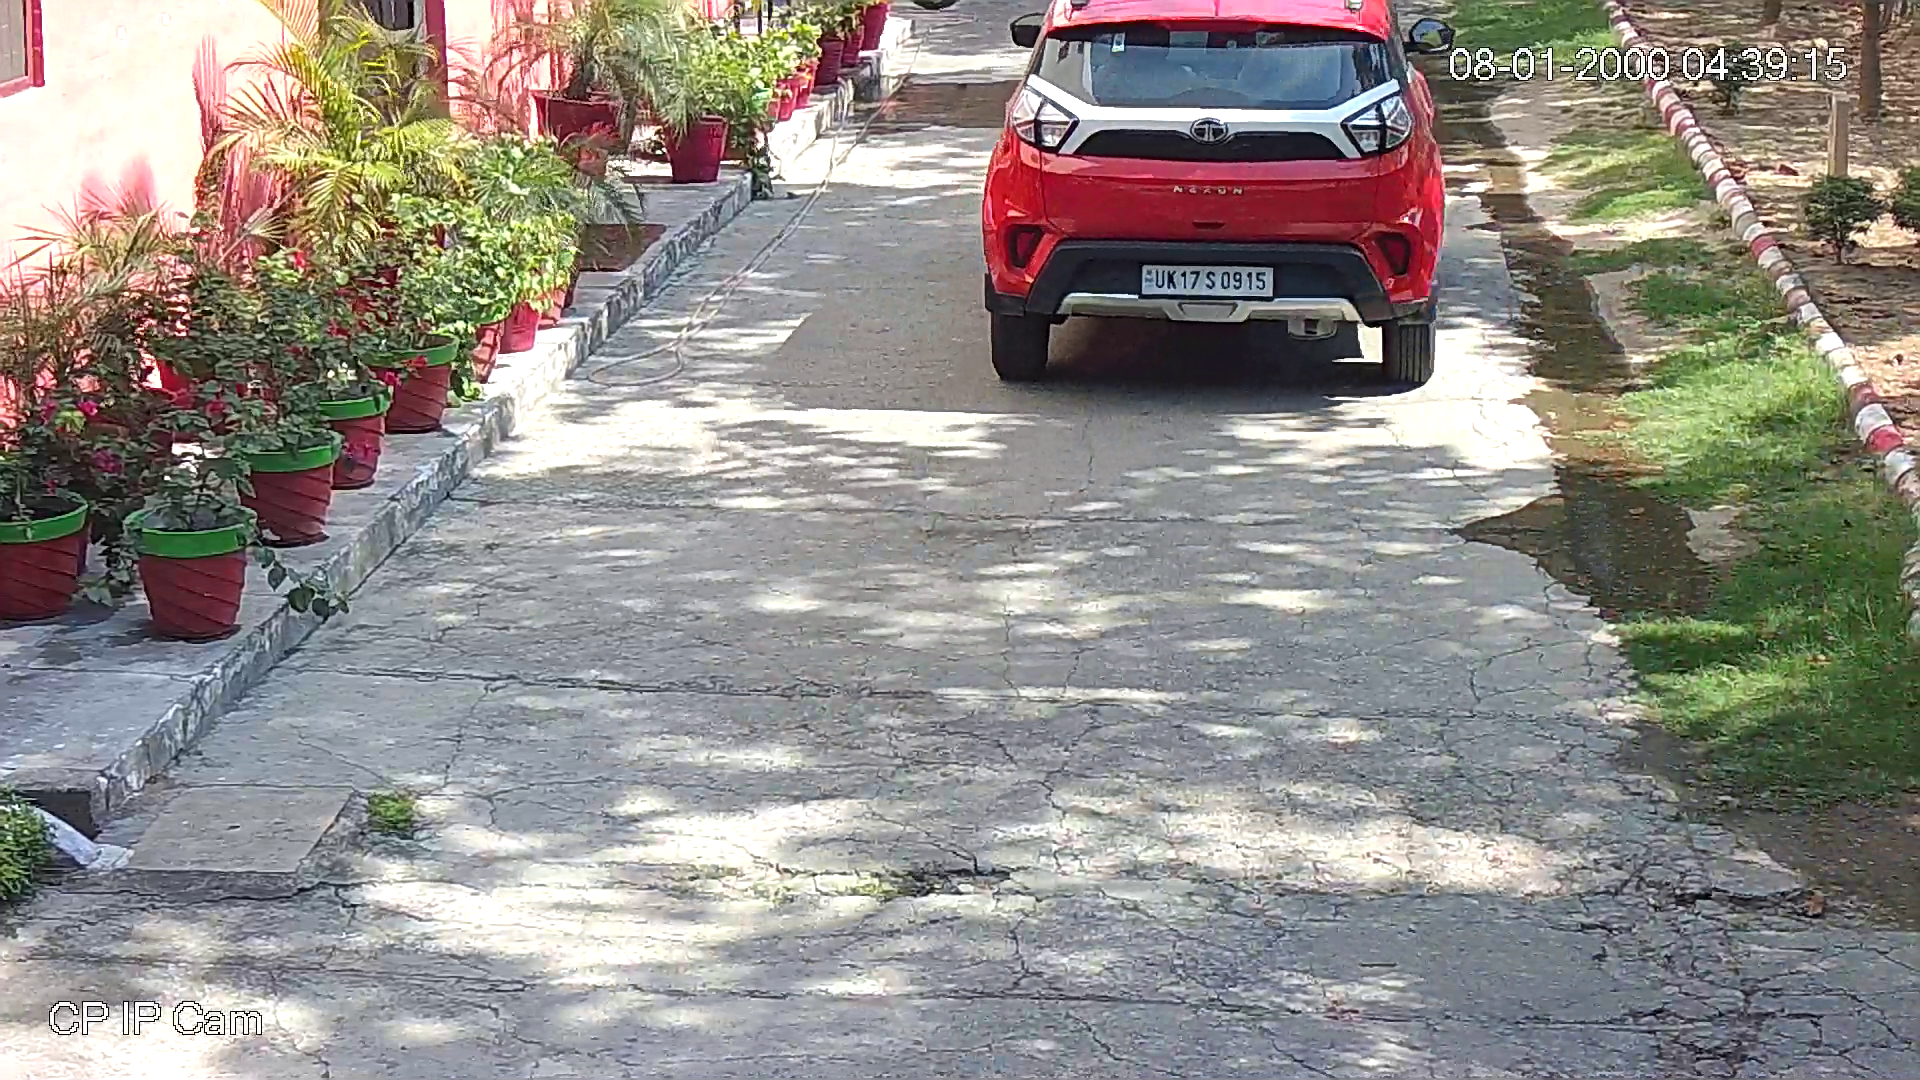plate: (1136, 261, 1278, 301)
